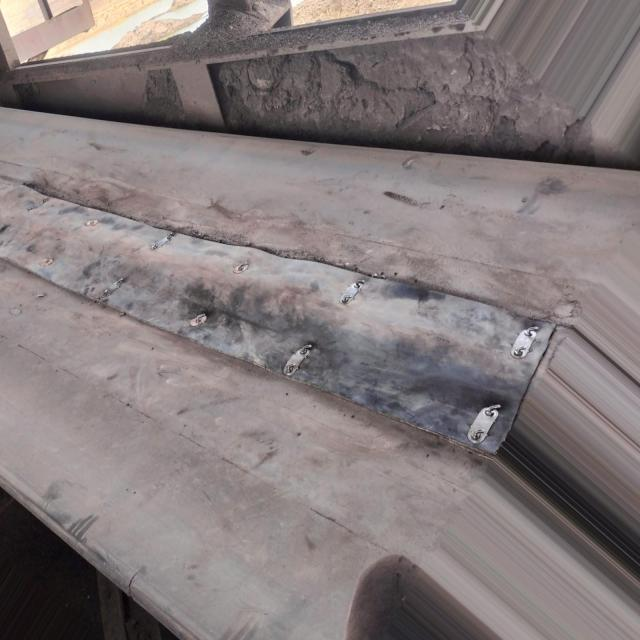patch work: (0, 172, 568, 460)
